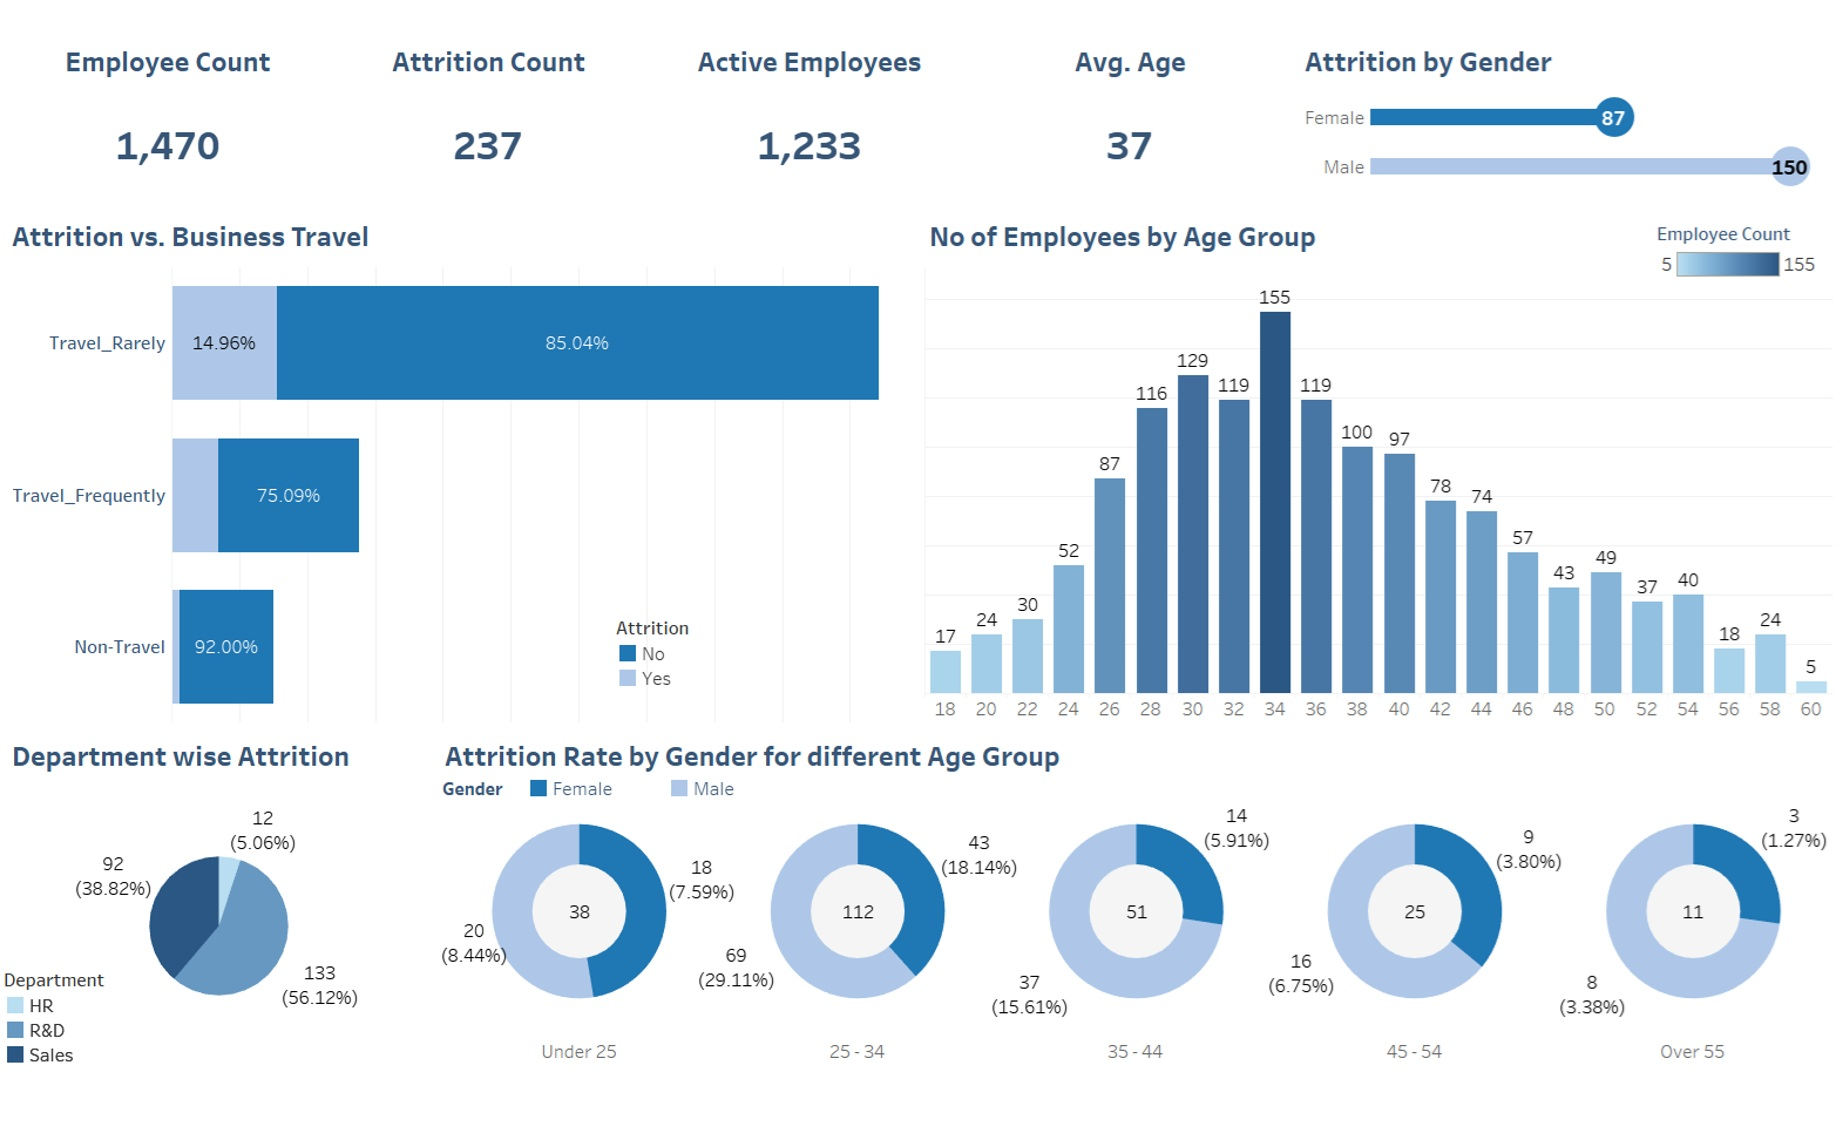

This screenshot's page, from the dashboard's own definition file:
{"tool":"tableau","page":{"name":"Dashboard 1","canvas":[1580,900],"ordinal":0},"visuals":[{"type":"worksheet","title":"KPI ","mark":"Automatic","box":[8,8,1101.9,149]},{"type":"worksheet","title":"Attrition by Gender","mark":"Automatic","rows":["Gender"],"cols":["Calculation_3415698865412653057","Calculation_3415698865412653057"],"box":[1109.9,8,462.1,149]},{"type":"worksheet","title":"Attrition vs. Business Travel","mark":"Bar","rows":["Business Travel"],"cols":["Employee Count"],"box":[8,157,782,443]},{"type":"worksheet","title":"No of Employees by Age Group","mark":"Automatic","rows":["Employee Count"],"cols":["Age (bin)"],"box":[790,157,782,443]},{"type":"legend","title":"No of Employees by Age Group","param":"[federated.0z88zam0mf2f4y1aai53p0a8oad7].[sum:Employee Count:qk]","box":[1418,169,140,88]},{"type":"legend","title":"Attrition vs. Business Travel","param":"[federated.0z88zam0mf2f4y1aai53p0a8oad7].[none:Attrition:nk]","box":[606,458,140,64]},{"type":"worksheet","title":"Department wise Attrition","mark":"Pie","box":[8,600,368.9,292]},{"type":"worksheet","title":"Attrition Rate by Gender for different Age group (2)","mark":"Pie","rows":["Calculation_2729181396962668552","Calculation_2729181396962668552"],"cols":["CF_age band"],"box":[376.9,600,1195.1,292]},{"type":"legend","title":"Attrition Rate by Gender for different Age group (2)","param":"[federated.0z88zam0mf2f4y1aai53p0a8oad7].[none:Gender:nk]","box":[383,642,317,29]},{"type":"legend","title":"Department wise Attrition","param":"[federated.0z88zam0mf2f4y1aai53p0a8oad7].[none:Department:nk]","box":[9,805,140,85]}]}

Visuals, with their boxes on the page's 1580x900 design canvas (x1, y1, x2, y2). These are canvas units, not pixel positions in the 1841x1126 screenshot, which may show the page scaled, cropped or inside an application window:
"KPI " worksheet: Rect(8, 8, 1110, 157)
"Attrition by Gender" worksheet: Rect(1110, 8, 1572, 157)
"Attrition vs. Business Travel" worksheet (Bar marks): Rect(8, 157, 790, 600)
"No of Employees by Age Group" worksheet: Rect(790, 157, 1572, 600)
"No of Employees by Age Group" legend: Rect(1418, 169, 1558, 257)
"Attrition vs. Business Travel" legend: Rect(606, 458, 746, 522)
"Department wise Attrition" worksheet (Pie marks): Rect(8, 600, 377, 892)
"Attrition Rate by Gender for different Age group (2)" worksheet (Pie marks): Rect(377, 600, 1572, 892)
"Attrition Rate by Gender for different Age group (2)" legend: Rect(383, 642, 700, 671)
"Department wise Attrition" legend: Rect(9, 805, 149, 890)
